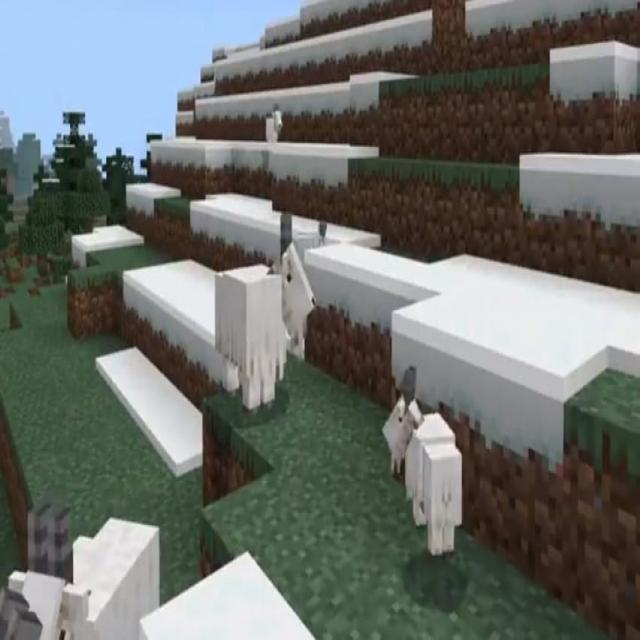Goat: (210, 210, 317, 417), (380, 362, 477, 568), (261, 104, 284, 144)
